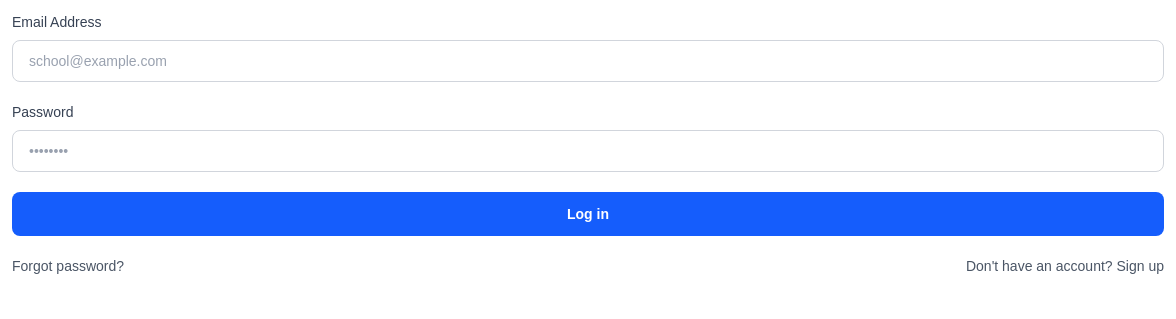
Test: LoginForm › shows password validation error when password is too short
Type "test@example.com" into the field labelled "Email Address" at (588, 61), box [12,40,1164,82]
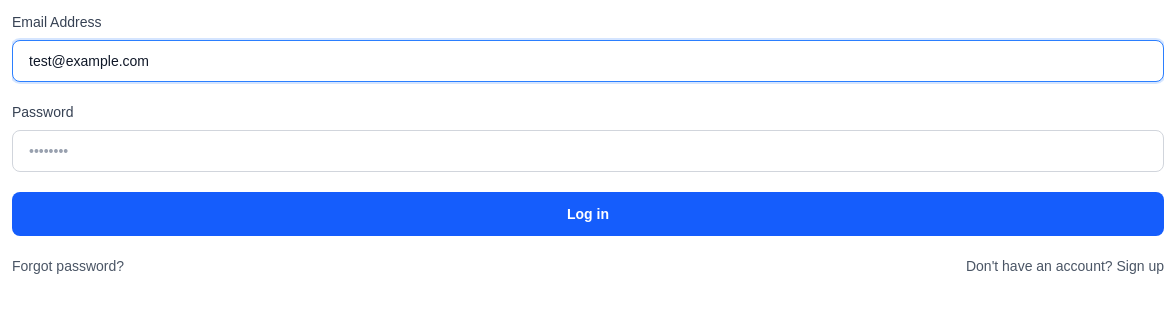
Type "abc" into the password field labelled "Password" at (588, 151), box [12,130,1164,172]
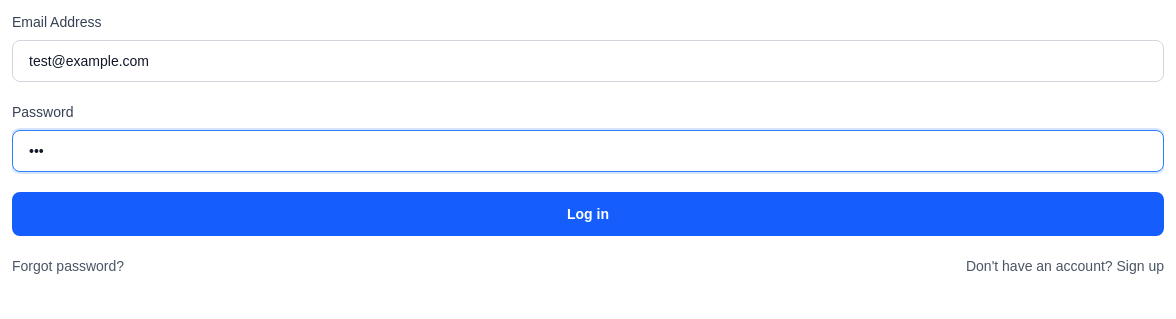
Click the button "Log in" at (588, 214), box [12,192,1164,236]
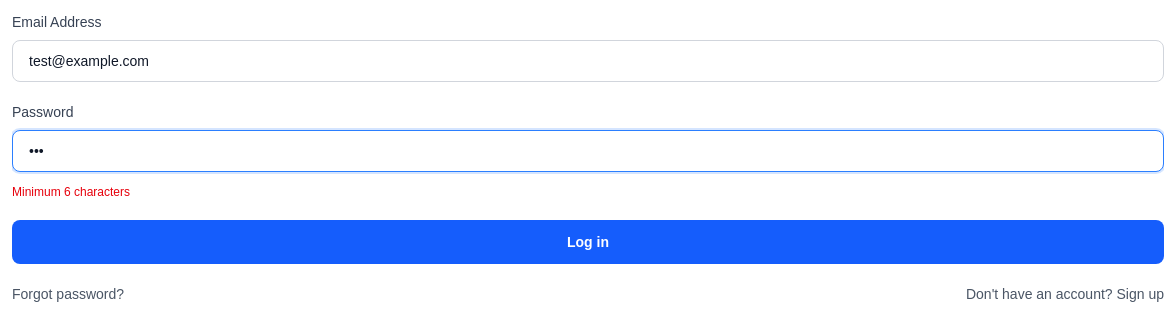
Expected: the text "Minimum 6 characters" is shown, [12,185,130,199]
